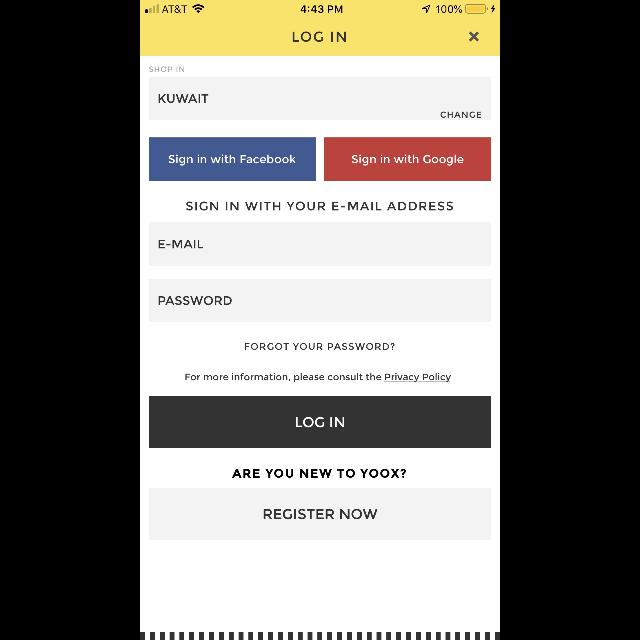icon: (469, 32, 479, 42)
input: (149, 222, 491, 266), (149, 280, 491, 322)
text: (185, 373, 451, 382), (186, 202, 454, 210), (232, 468, 406, 478), (246, 342, 394, 350), (158, 296, 232, 304), (292, 32, 346, 42), (159, 95, 209, 104), (158, 240, 204, 248), (441, 112, 482, 118), (150, 66, 184, 72)
textbutton: (149, 396, 491, 448), (149, 488, 491, 540), (148, 138, 316, 180), (324, 138, 492, 180)
uppertaskbar: (140, 0, 500, 14)
